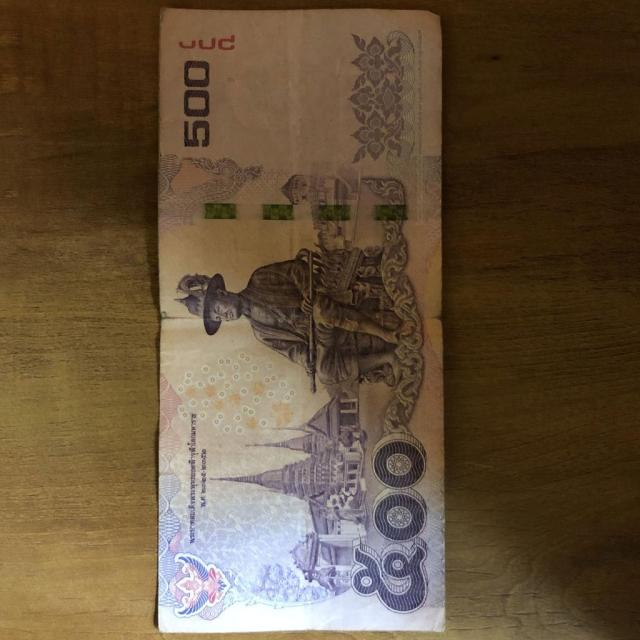THAI500: (156, 8, 446, 635)
